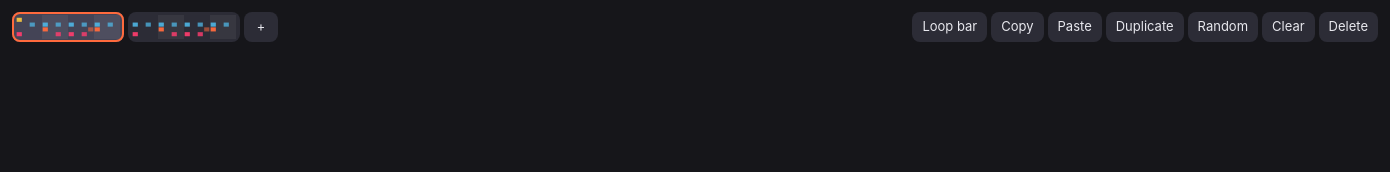
Test: BarStrip › disables delete for the last remaining bar
Click the button "Delete" at (1348, 27), box top-left (1319, 12), bottom-right (1378, 42)
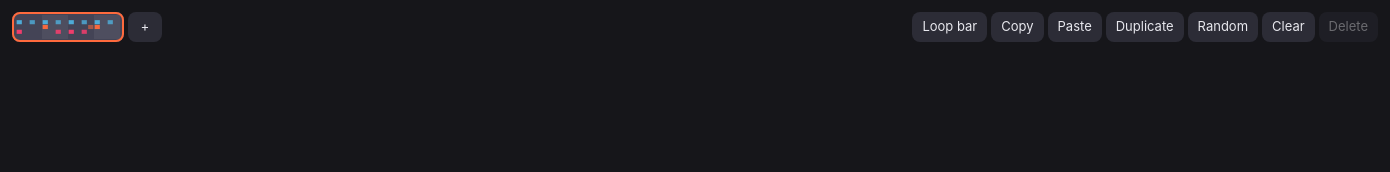
Expected: the button "Delete" is disabled, top-left (1319, 12), bottom-right (1378, 42)
